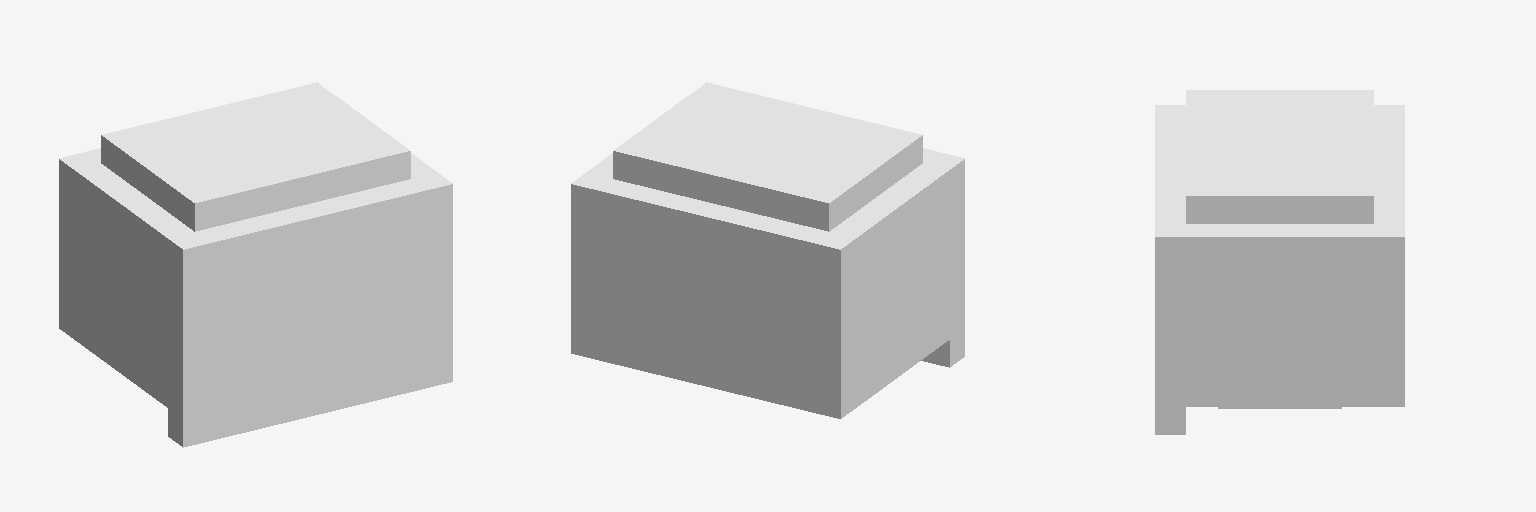
The model's file is CoopSHT-4.obj.
The picture shows the model from 3 angles: view 1: azimuth 30°, elevation 25°; view 2: azimuth 150°, elevation 25°; view 3: azimuth 270°, elevation 25°; orthographic projection.
Visible parts, largest first — view 1: object 1; view 2: object 1; view 3: object 1.
Part boxes in pixels (left/top/right/bottom): object 1: left=59, top=82, right=452, bottom=447; object 1: left=571, top=82, right=964, bottom=418; object 1: left=1155, top=90, right=1404, bottom=434.
Size of the model in its own units: 1 by 0.8 by 0.8.